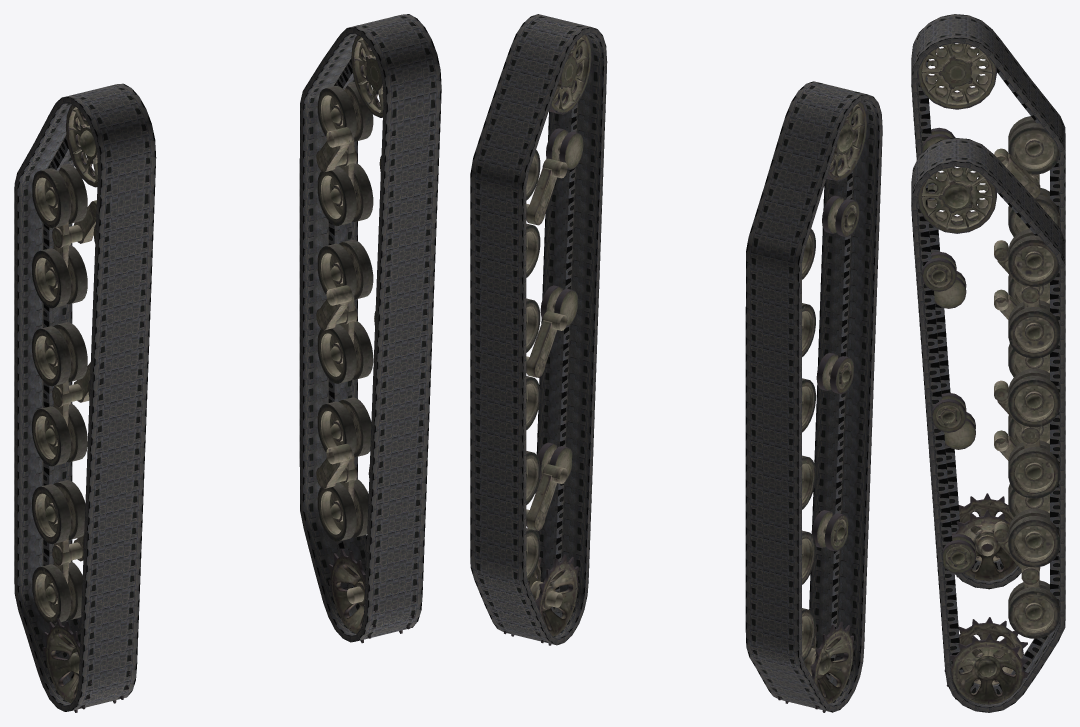
Rendered from Chassis.glb.
The picture shows the model from 3 angles, left to right: view 1: azimuth 30°, elevation 25°; view 2: azimuth 150°, elevation 25°; view 3: azimuth 270°, elevation 25°; orthographic projection. The views are drawn at different scales.
Visible parts, largest first — view 1: set_1_group_0, set_0_group_0, set_2_group_0, set_3_group_0; view 2: set_1_group_0, set_0_group_0, set_3_group_0, set_2_group_0; view 3: set_3_group_0, set_0_group_0, set_2_group_0, set_1_group_0.
Boxes of the visible parts, box(x1,y1,x2,y2) form: set_1_group_0: box(14, 83, 156, 711); set_0_group_0: box(299, 14, 441, 642); set_2_group_0: box(32, 105, 130, 712); set_3_group_0: box(316, 35, 415, 643); set_1_group_0: box(745, 81, 882, 712); set_0_group_0: box(470, 14, 607, 645); set_3_group_0: box(498, 34, 591, 645); set_2_group_0: box(773, 102, 866, 712); set_3_group_0: box(918, 167, 1059, 704); set_0_group_0: box(911, 137, 1065, 712); set_2_group_0: box(918, 43, 1059, 581); set_1_group_0: box(911, 14, 1065, 589).
Size of the model in its own units: 2.49 by 4.35 by 1.1.
4 materials, 4 textured.
